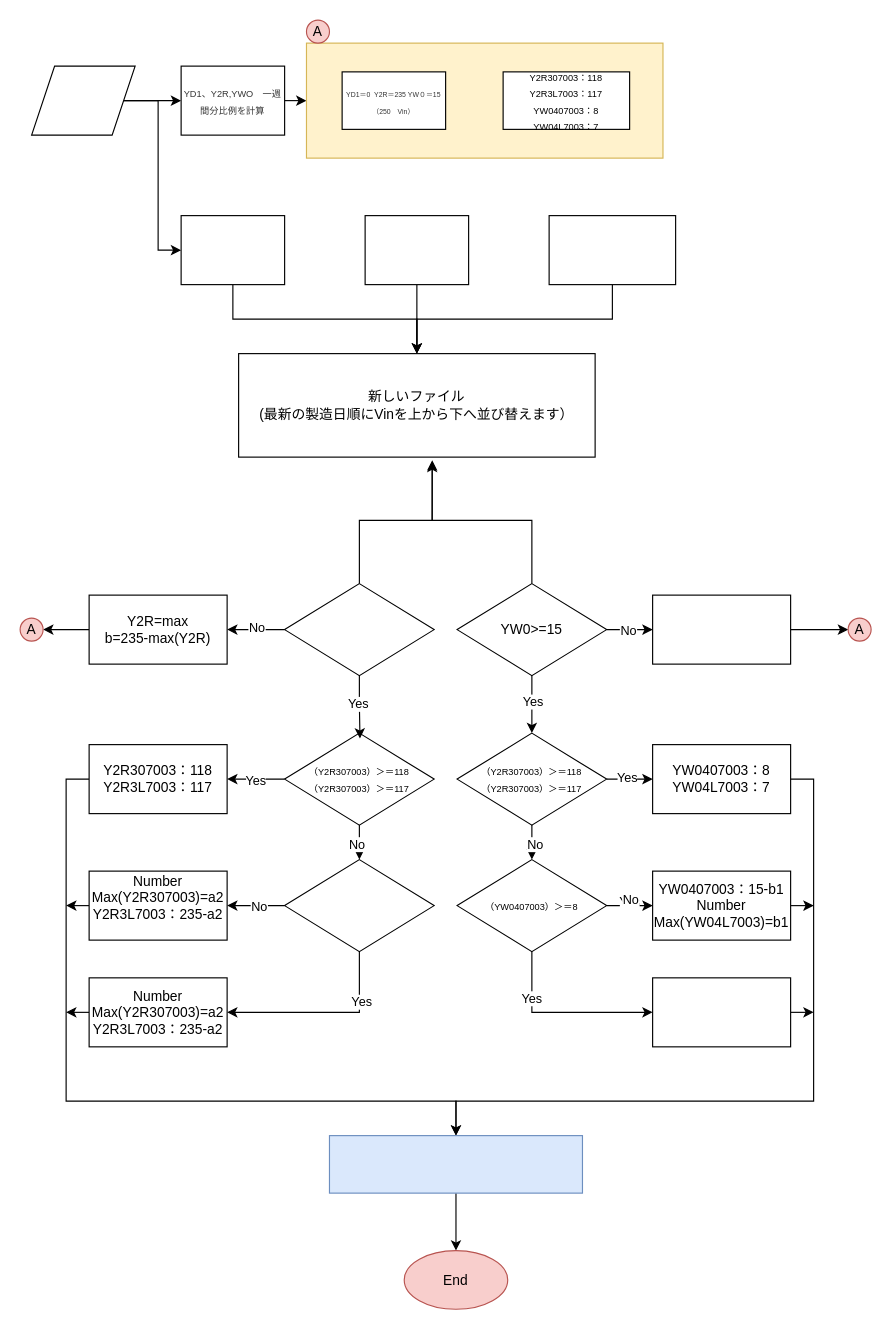
The diagram is 891 pixels wide and 1329 high, and some of its shapes have lost their labels. Each missing label, with the box of its shape:
Number Max(YW0407003)=b2 YW04L7003=15-b2: (651, 977, 791, 1047)
VIn を選択: (328, 1134, 582, 1193)
Y2R>=235: (283, 582, 434, 676)
YW0=max c=15-max(YW0): (651, 594, 791, 664)
マスターファイ （SOS, 生産完了日）: (364, 214, 469, 285)
仮名化ツール: (180, 214, 285, 285)
契約Ｖｉｎファイル: (548, 214, 676, 285)
新しいGVI_日本: (30, 65, 135, 135)
（Y2R307003）＞＝118: (283, 858, 434, 952)
